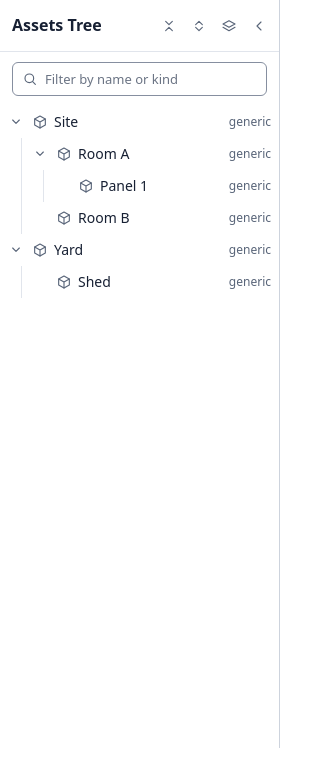
it: AssetTree fold state › Expand all also opens a branch the user folded by hand
This screenshot has width=320, height=765.
Step 1. Click the button named "Children of Room A" → {"x": 40, "y": 154}, box [30, 144, 50, 164]
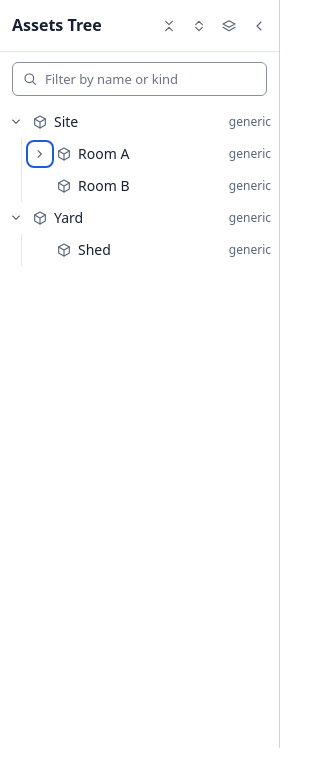
Expected: the link "Panel 1" is gone
Step 2. Click the button named "Expand all" → {"x": 199, "y": 26}, box [185, 12, 213, 40]
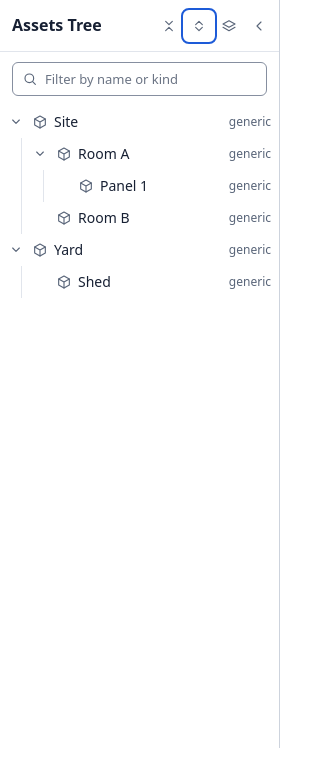
Expected: the link "Panel 1" is shown, [100, 176, 148, 195]
